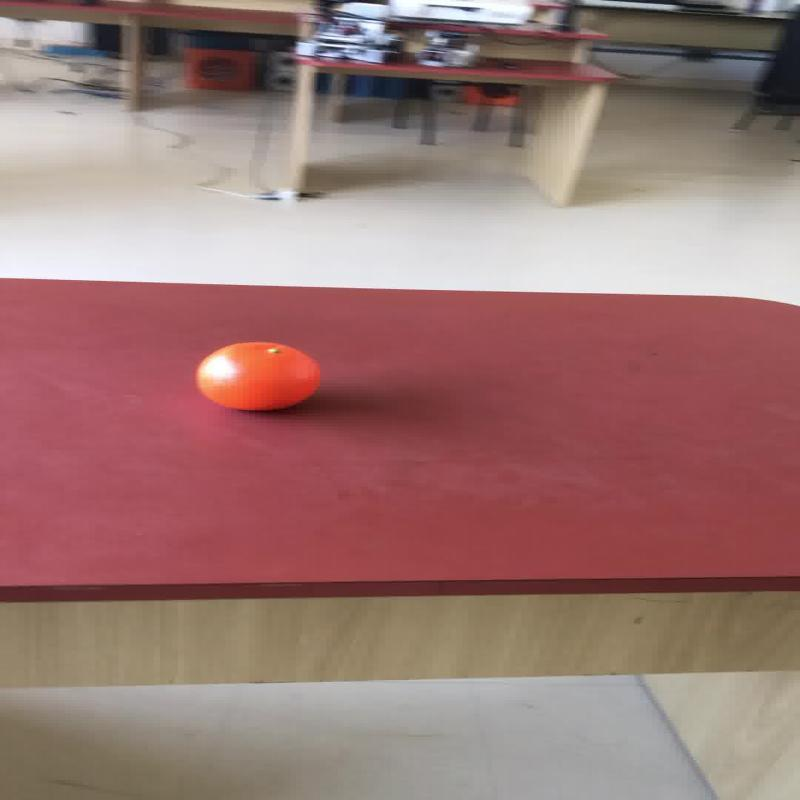orange: (194, 340, 320, 412)
